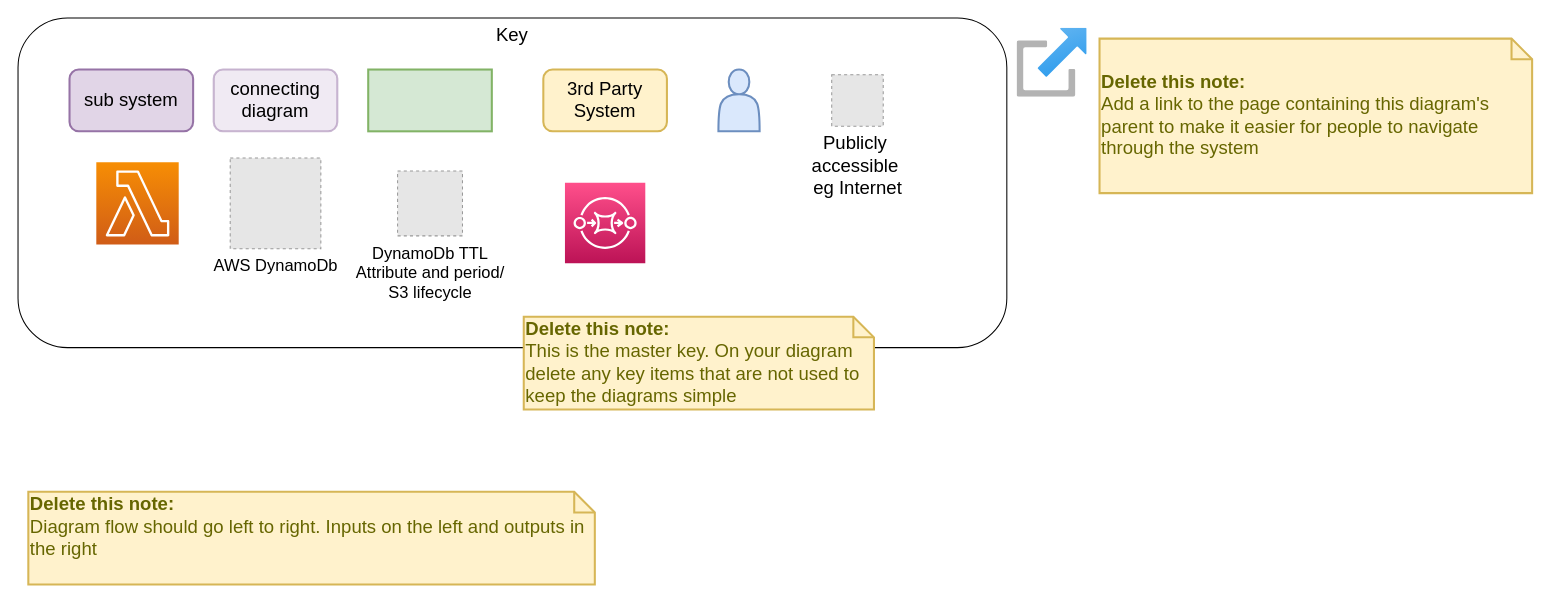
Some shapes in this 1551 by 604 pixel diagram are drawn without their labels. Grey dashed boxes stand in for pictures. The centre of each missing label's shape, as x and y in pixels:
AWS Lambda: point 137,203
AWS SQS: point 604,222
Code repo: point 429,100
Parent: point 1052,62
Website Vsitor: point 738,100
